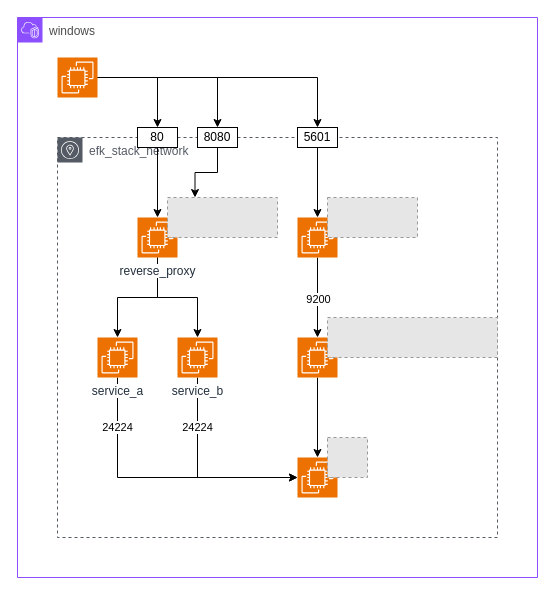
Some shapes in this 555 by 595 pixel diagram are drawn without their labels. Grey dashed boxes stand in for pictures. Each missing label, with the centre of its shape:
"host (wsl)" belongs at pixel 77 77.
"log_analyzer" belongs at pixel 317 357.
"logger 10.10.10.10" belongs at pixel 317 477.
"visualizer" belongs at pixel 317 237.
